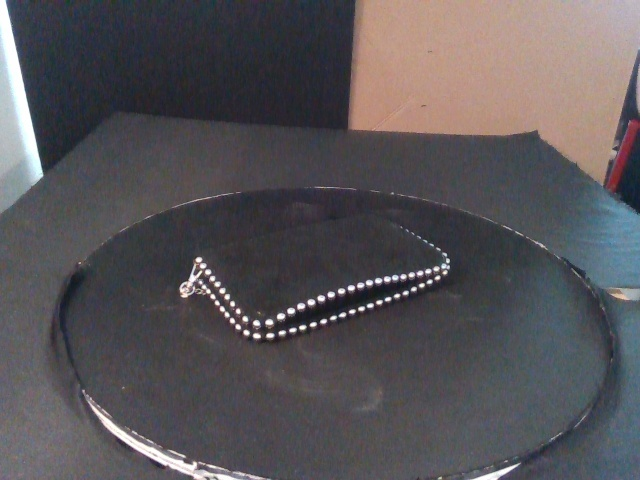bag: (193, 211, 452, 344)
